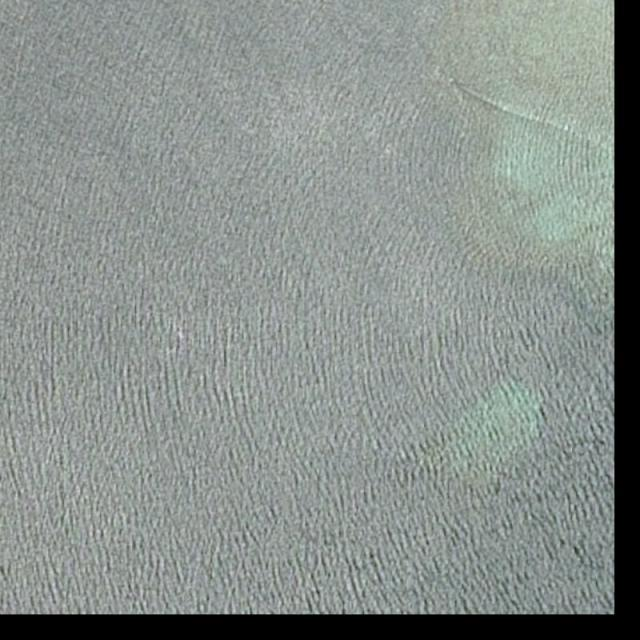ship: (453, 80, 467, 91)
